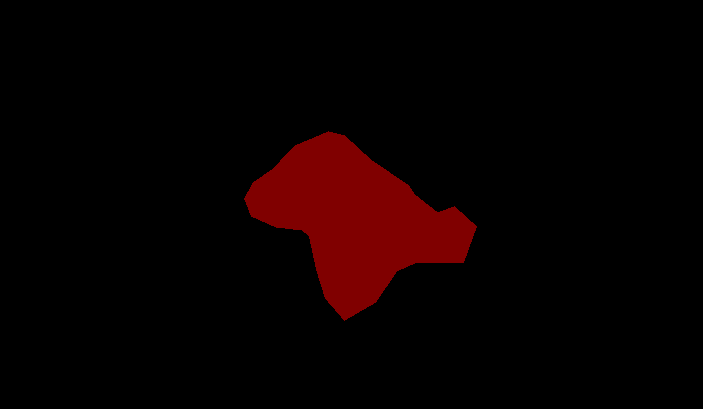fire: (244, 131, 476, 320)
